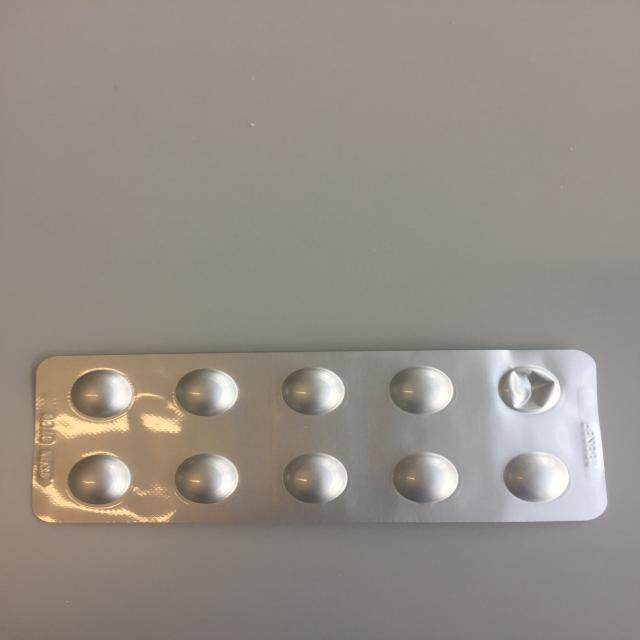Empty: (495, 362, 567, 417)
Pill: (388, 448, 465, 506), (279, 450, 353, 507), (65, 367, 141, 422), (502, 449, 576, 505), (170, 450, 242, 507), (65, 452, 137, 508), (171, 366, 245, 420), (384, 362, 455, 418), (279, 363, 350, 418)
